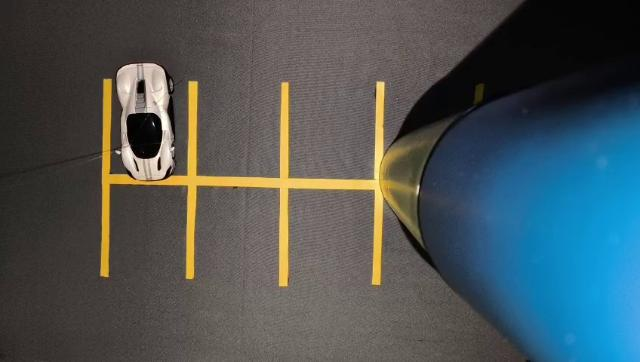toy_car: (89, 49, 196, 198)
